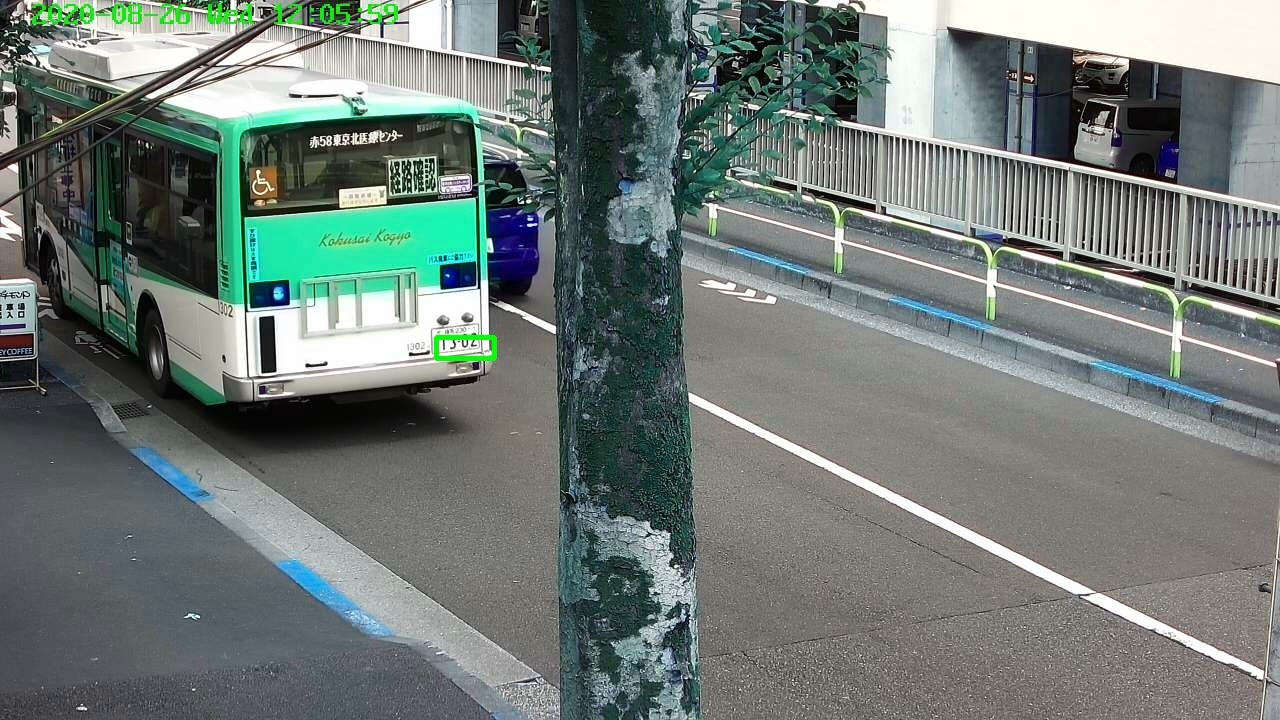number_plate: (432, 327, 482, 352)
